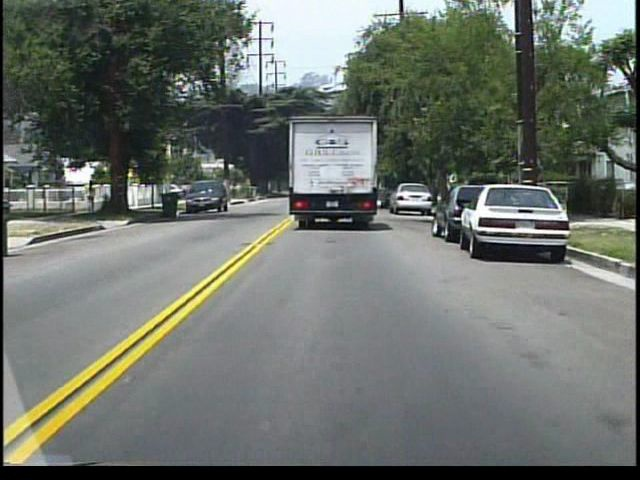person: (87, 179, 99, 214)
